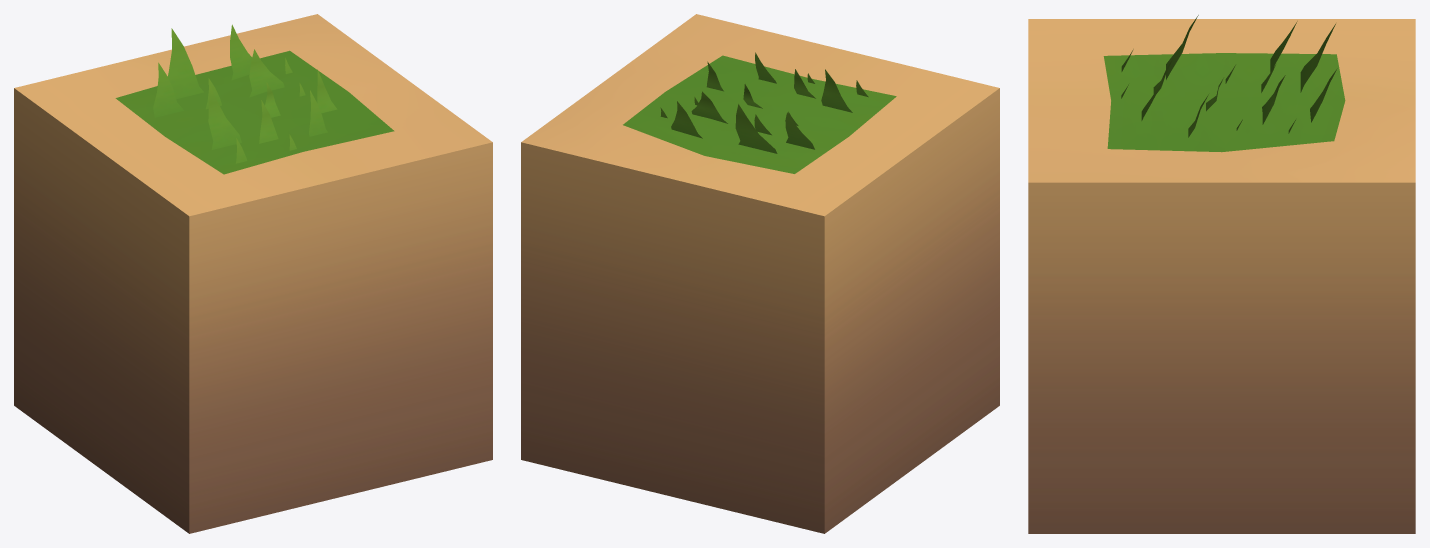
The model's file is fourside m tile.fbx.
3 renders of one model, left to right at view 1: azimuth 30°, elevation 25°; view 2: azimuth 150°, elevation 25°; view 3: azimuth 270°, elevation 25°, orthographic. The views are drawn at different scales.
Visible parts, largest first — view 1: fside_m_tile, fside_m_grass; view 2: fside_m_tile, fside_m_grass; view 3: fside_m_tile, fside_m_grass.
Part boxes in pixels (x1,y1,x2,y2): fside_m_tile: (14,14,492,533); fside_m_grass: (153,24,337,163); fside_m_tile: (521,14,999,533); fside_m_grass: (660,52,868,153); fside_m_tile: (1028,19,1415,533); fside_m_grass: (1121,15,1337,137).
Bounding box in the file's own units: 10 × 11.79 × 10.
